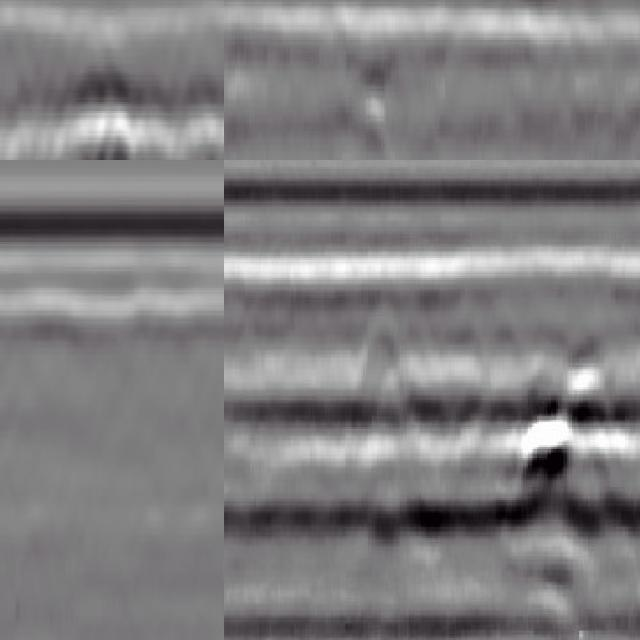loose: (360, 337, 628, 546), (1, 65, 225, 161)
